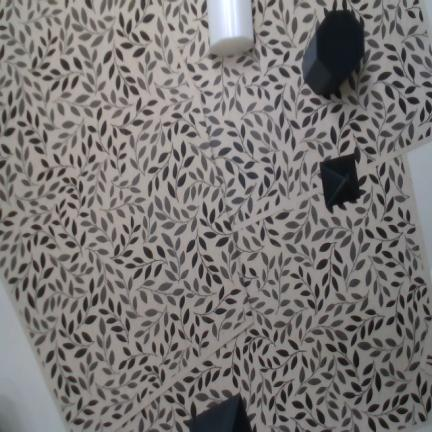Piramide: (188, 392, 252, 431), (319, 154, 360, 205)
Prisma_hexagonal: (302, 9, 365, 96), (207, 0, 254, 55)
